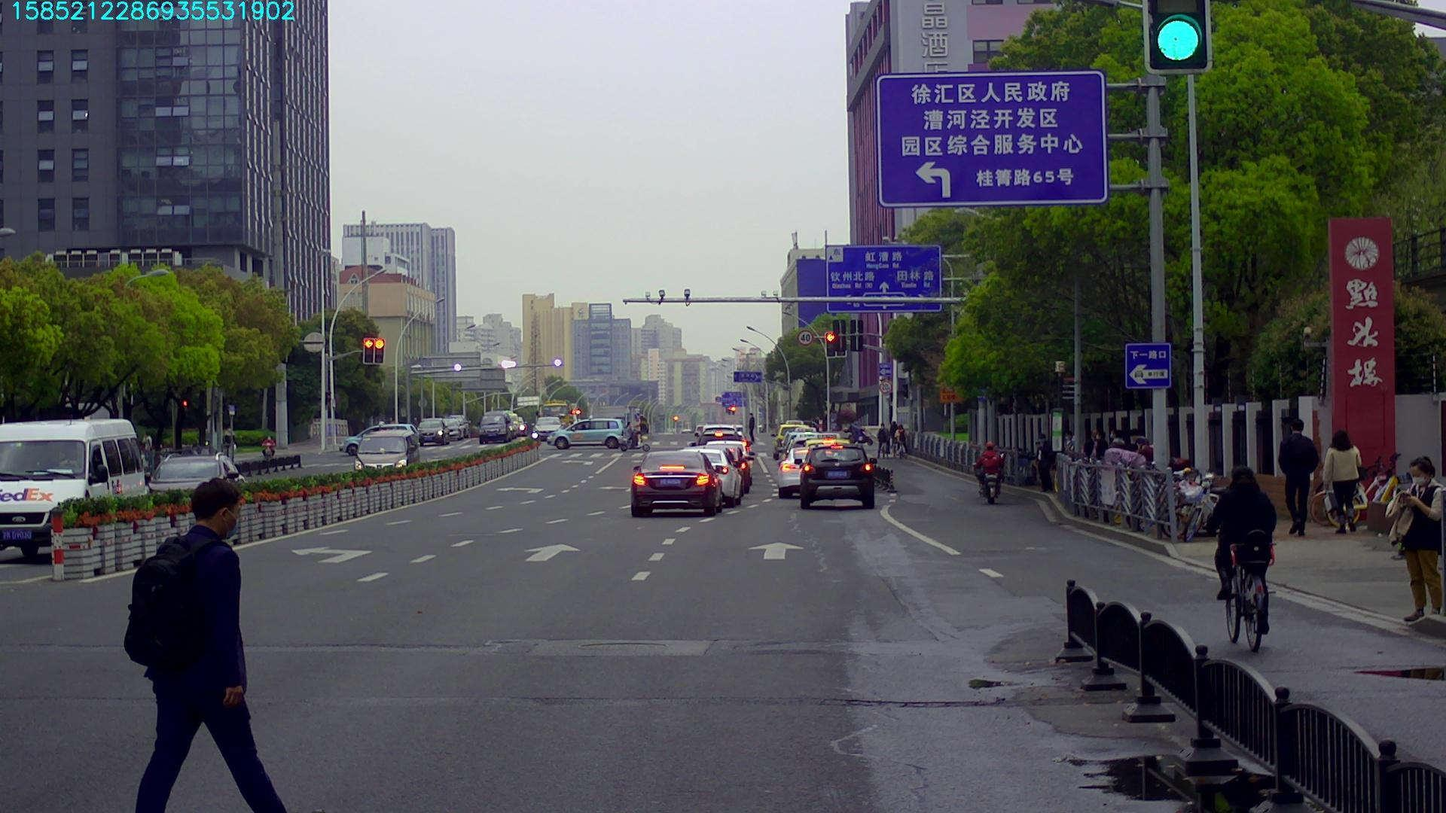green: (1146, 2, 1208, 73)
red: (363, 339, 374, 363), (825, 331, 835, 357), (374, 338, 383, 362)
